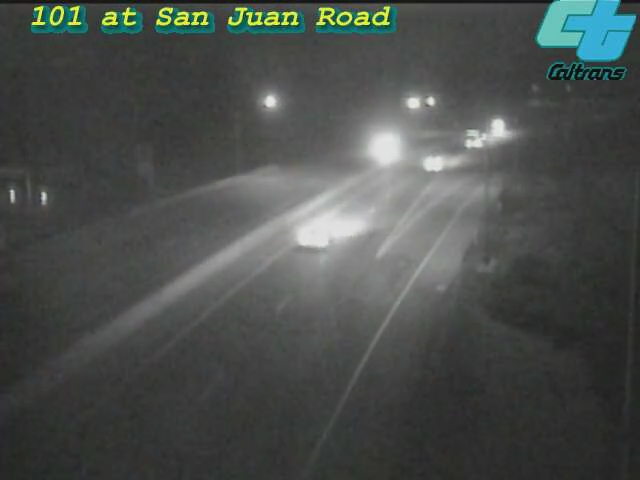vehicle: (392, 125, 472, 205), (272, 199, 352, 279), (361, 122, 411, 172), (474, 101, 524, 151), (470, 109, 520, 159), (451, 115, 501, 165)
